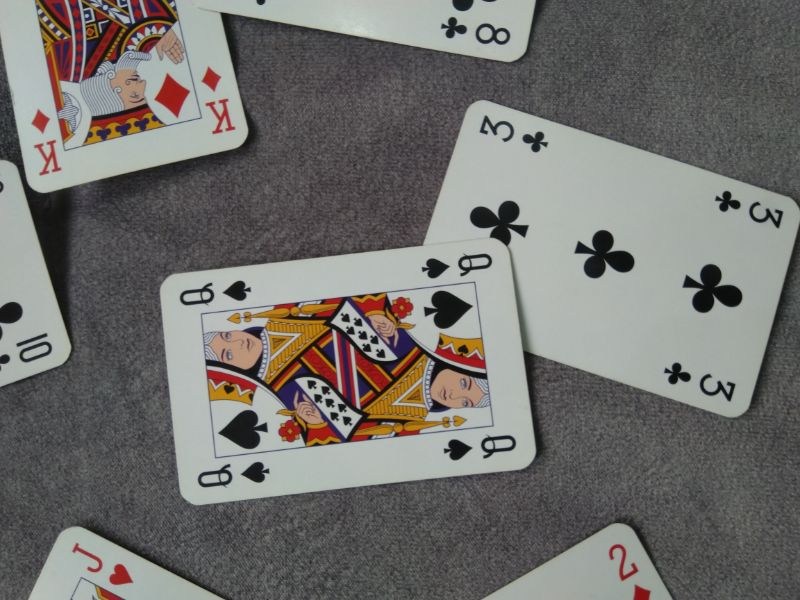2d: (606, 538, 656, 600)
3c: (661, 355, 738, 406), (712, 187, 788, 234), (473, 113, 553, 155)
8c: (436, 14, 514, 48)
Jh: (67, 536, 137, 588)
Kd: (197, 63, 236, 137), (28, 106, 63, 180)
Qs: (439, 428, 518, 464), (192, 459, 273, 494), (416, 247, 493, 281), (177, 276, 253, 307)
